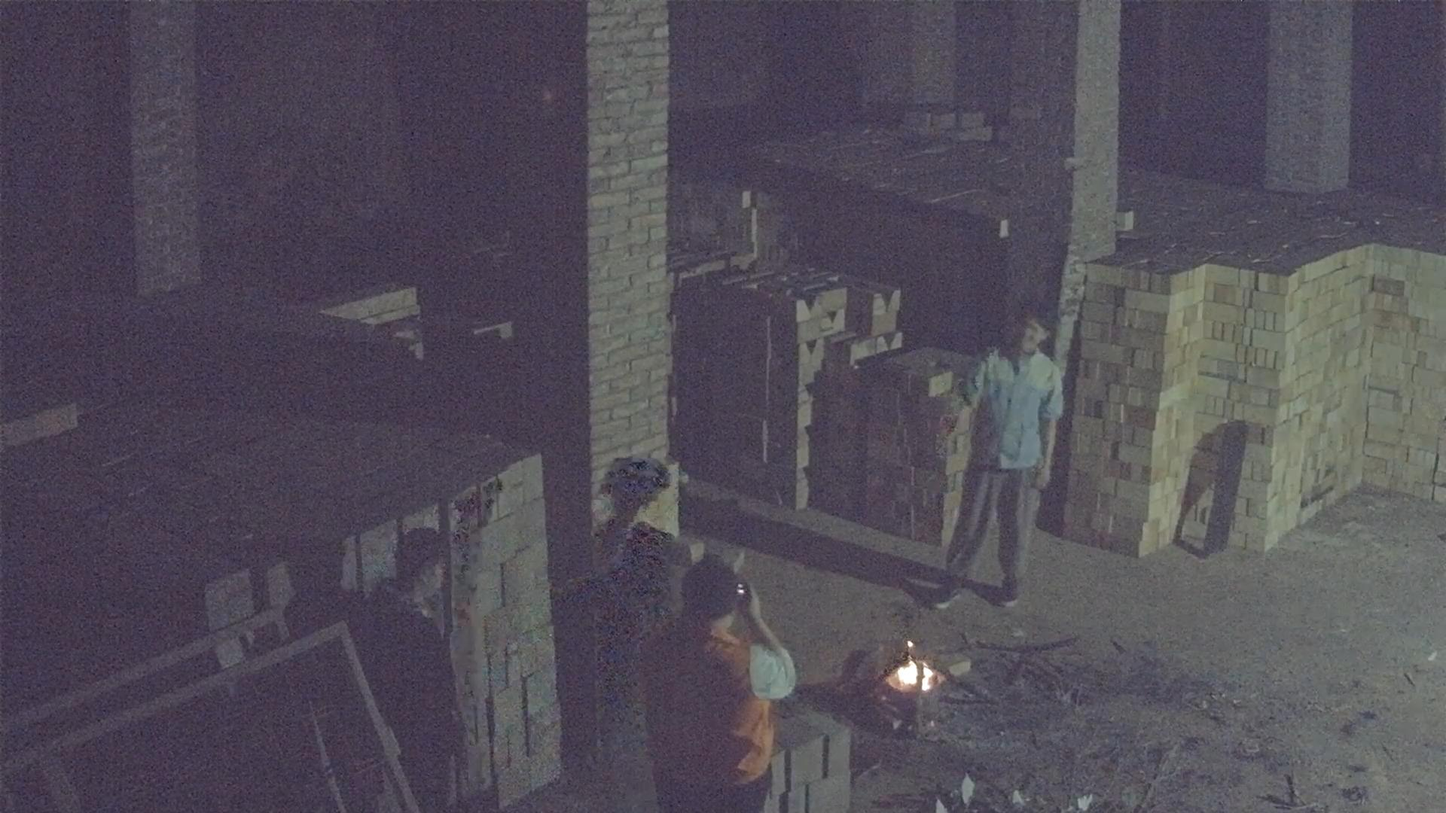fire: (885, 654, 941, 694)
